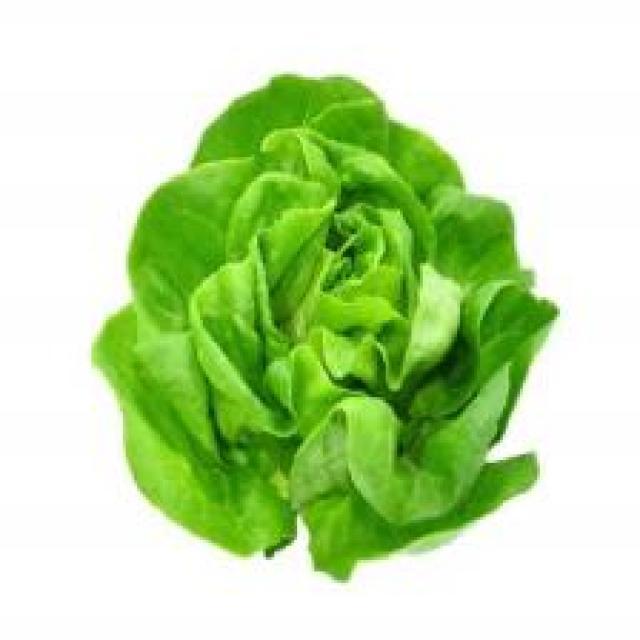Lettuce: (98, 62, 545, 575)
